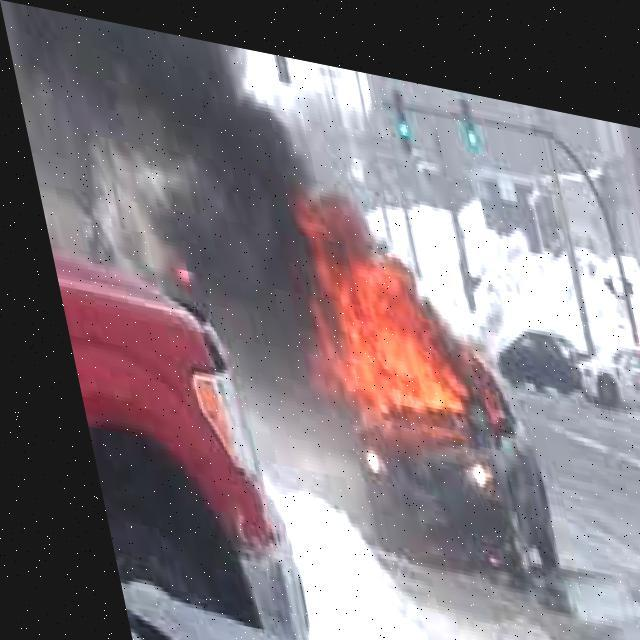Fire: (262, 172, 519, 468)
